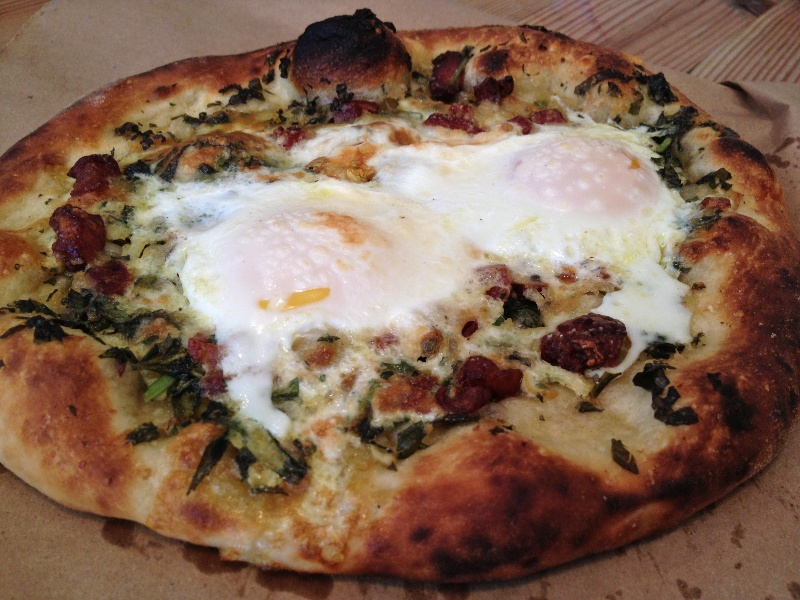oeuf: (224, 201, 402, 320)
